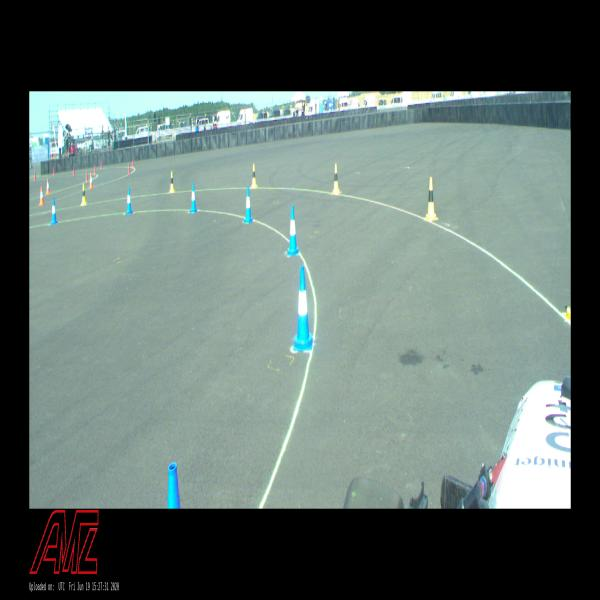blue_cone: (293, 266, 313, 350), (287, 205, 299, 256), (244, 187, 252, 223), (190, 183, 197, 212), (126, 188, 132, 214), (51, 198, 57, 224)
orange_cone: (40, 186, 44, 205), (46, 178, 50, 194), (89, 174, 93, 189)
unknown_cone: (85, 171, 88, 182), (128, 163, 130, 174), (132, 157, 134, 168), (94, 165, 96, 175), (34, 172, 36, 181), (100, 160, 102, 169), (53, 167, 55, 175), (73, 166, 74, 176)
yellow_cone: (425, 178, 437, 219), (333, 164, 339, 193), (251, 164, 257, 188), (81, 184, 86, 205), (170, 172, 174, 193)
